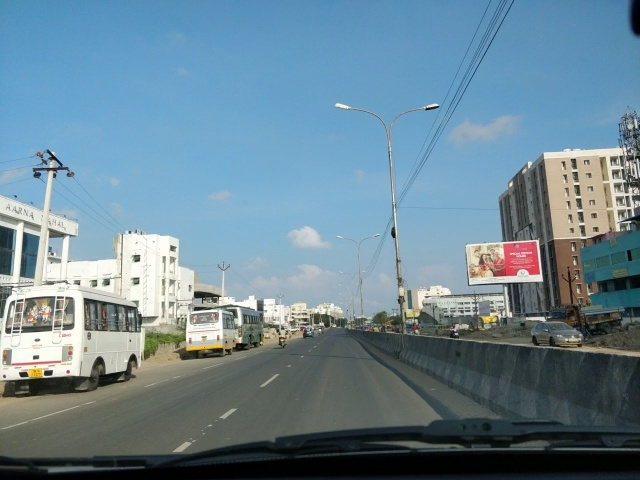bus: (0, 284, 152, 407), (186, 304, 252, 359)
car: (532, 318, 585, 345), (303, 324, 316, 341)
motorbike: (275, 321, 291, 354)
